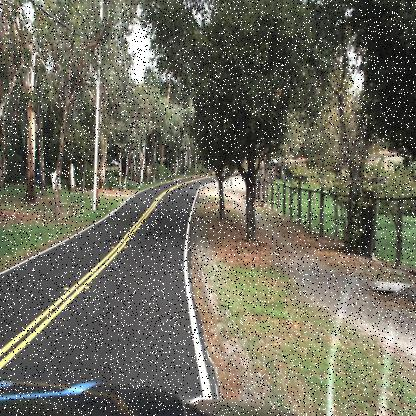car: (269, 150, 285, 169)
